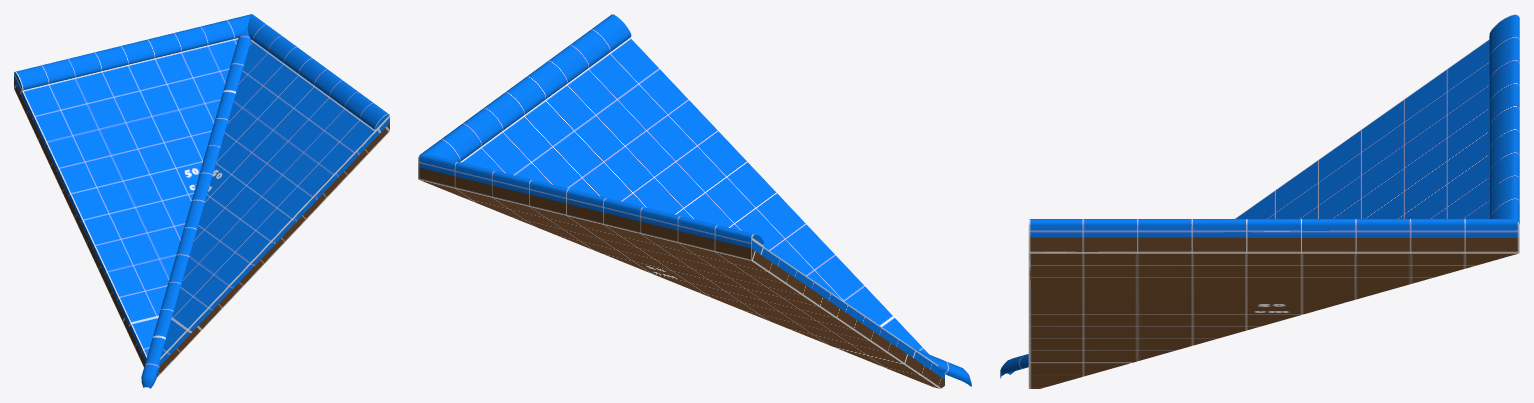
The model's file is M01Roof01_4.FBX.
3 views of the same model, side by side, from view 1: azimuth 30°, elevation 25°; view 2: azimuth 150°, elevation 25°; view 3: azimuth 270°, elevation 25° (orthographic). The views are drawn at different scales.
Parts seen in each view (by area): view 1: M01Roof01_4; view 2: M01Roof01_4; view 3: M01Roof01_4.
Boxes of the visible parts, x1,y1,x2,y2 form: M01Roof01_4: (14,14,389,388); M01Roof01_4: (418,14,971,388); M01Roof01_4: (1000,14,1519,388).
Size of what is drawn, in the model's own units: 4.76 by 3.77 by 4.76.
